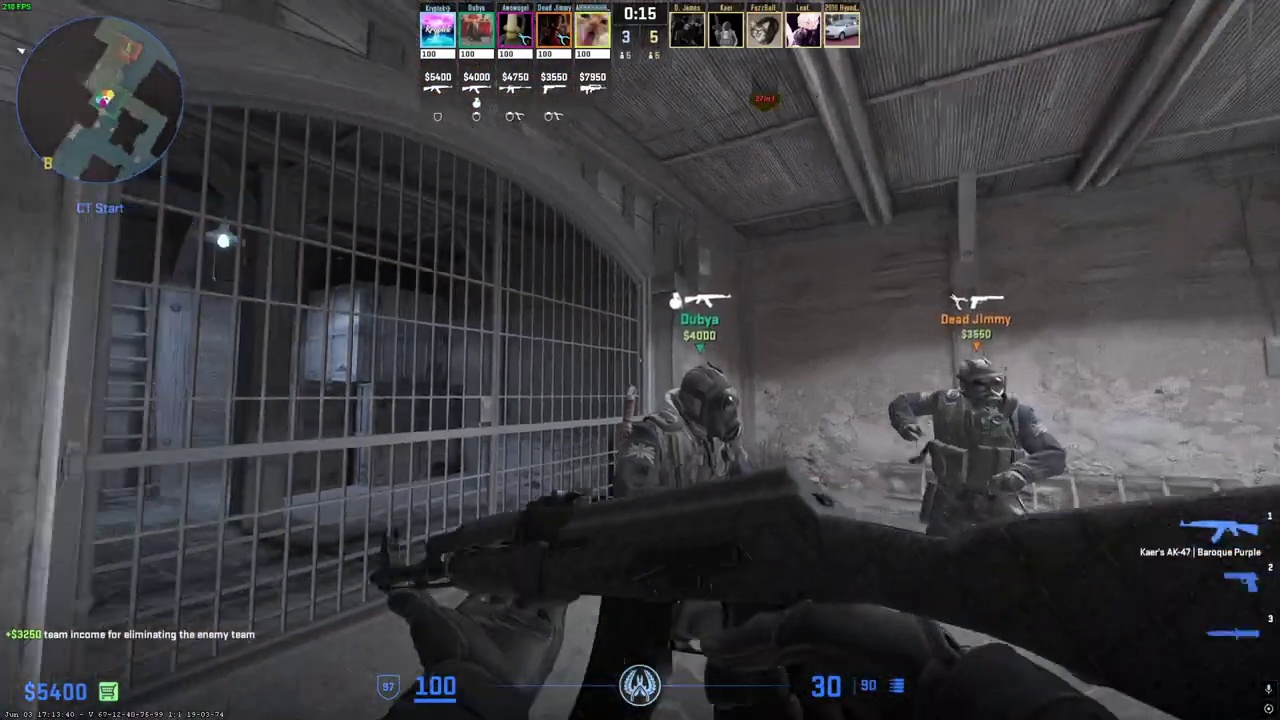CT: (911, 354, 1056, 537), (623, 360, 741, 491)
